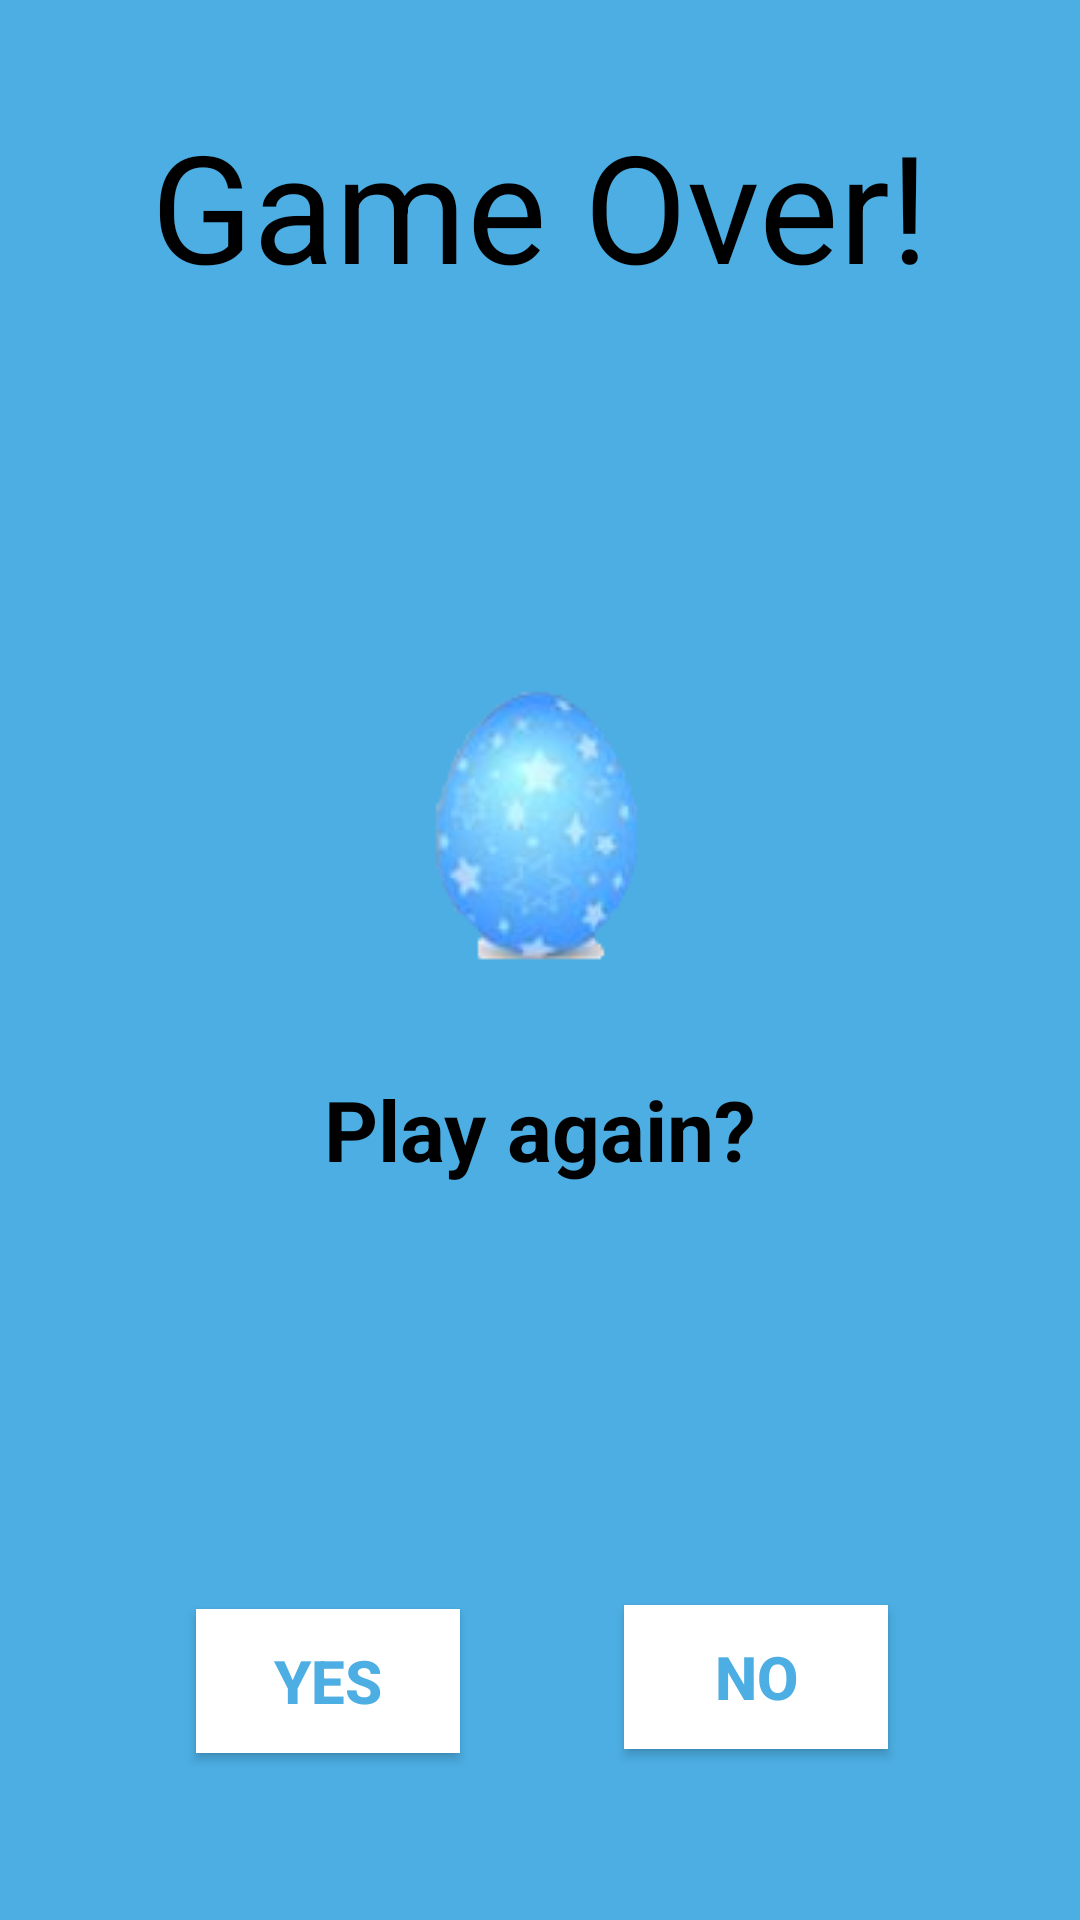

Locate icon controls on the screen. Image size 1080 × 1920, boxes as (x1, y1, x2, y2).
Easter Egg: (436, 692, 636, 960)
